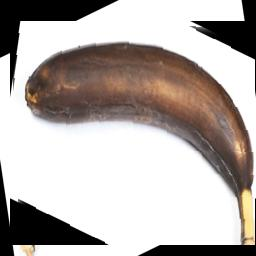Banana Rotten: (11, 21, 256, 245)
